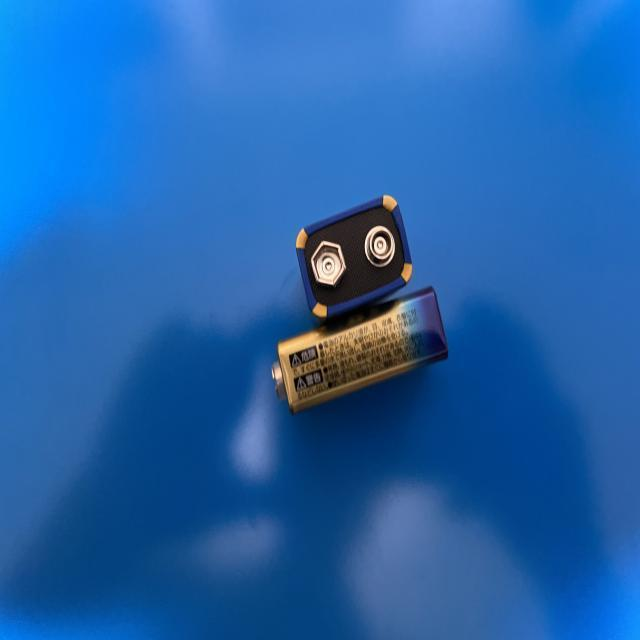9V: (269, 287, 449, 418), (293, 193, 414, 324)
